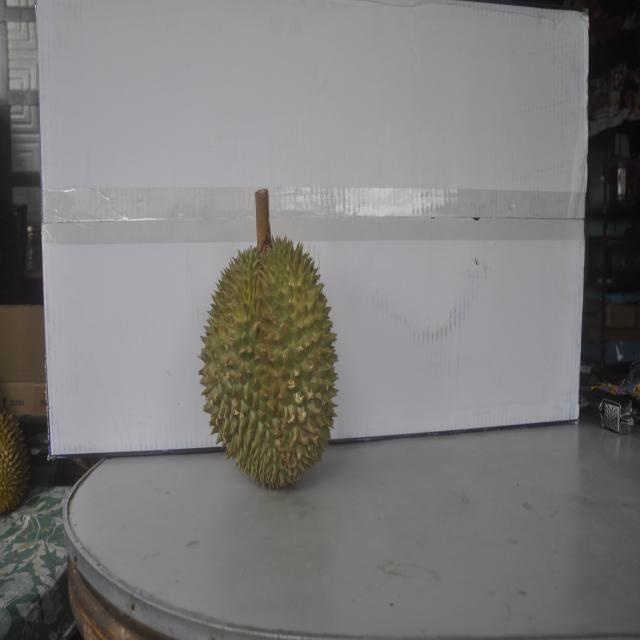mature: (198, 223, 341, 492), (0, 406, 31, 517)
